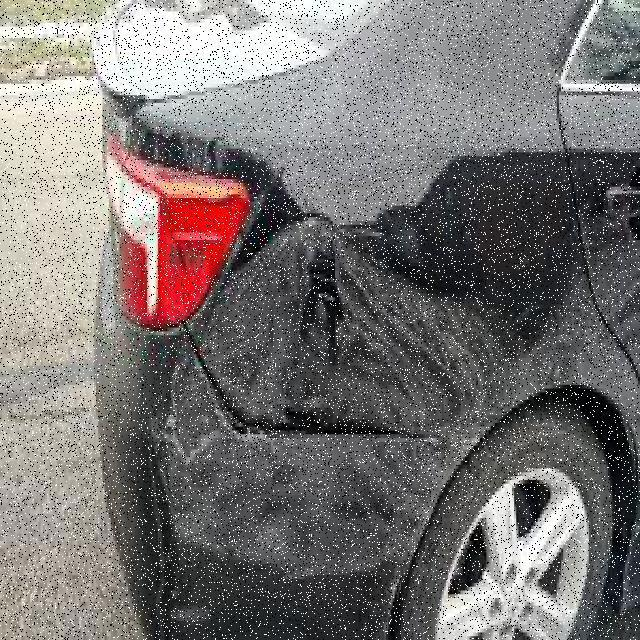quaterpanel-dent: (230, 95, 600, 495)
rear-bumper-dent: (47, 419, 491, 636)
